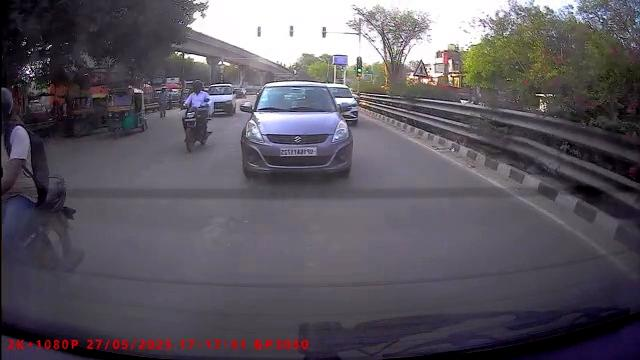motorcycle_with_helmet: (180, 79, 214, 154)
